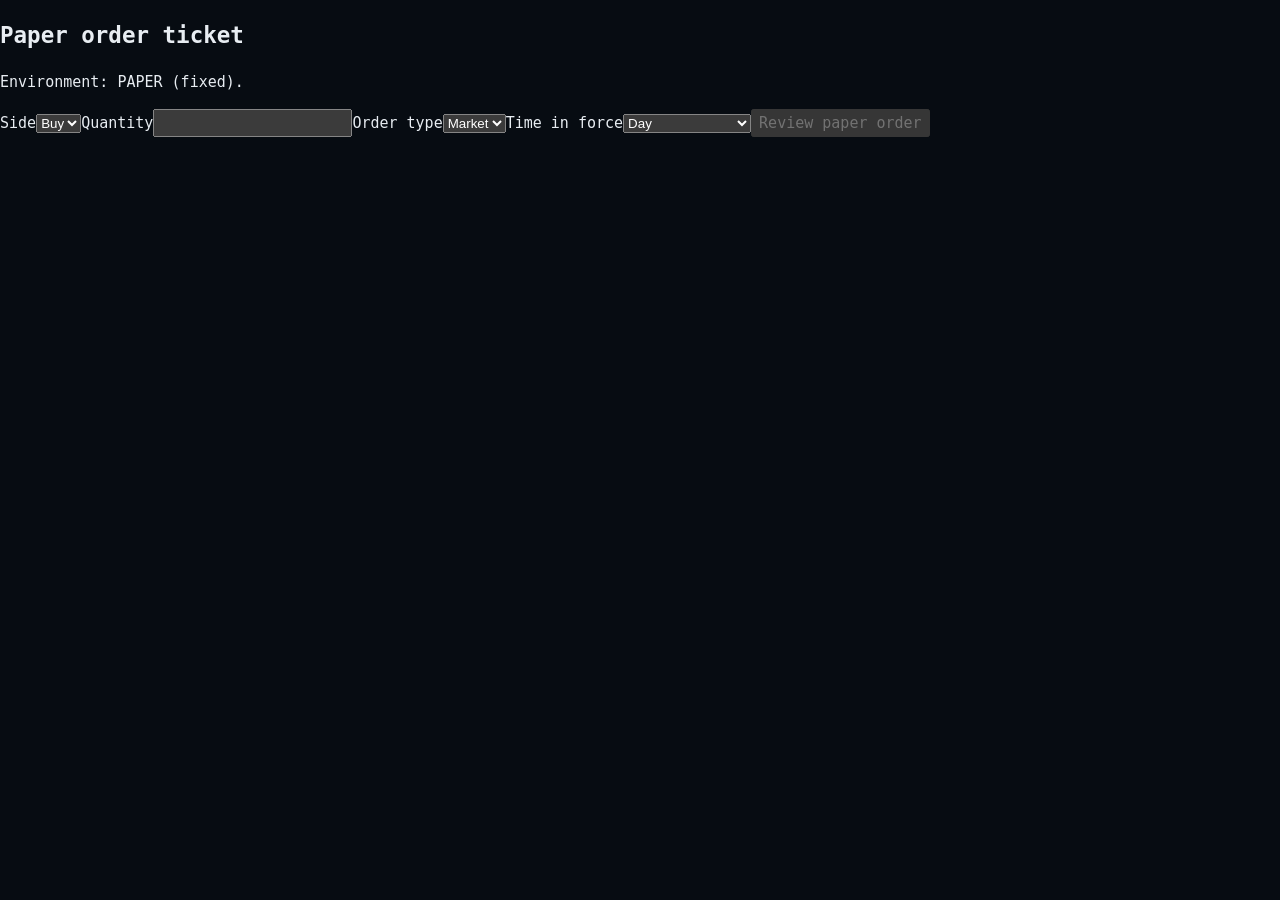
Test: PaperOrderTicketView › retries a definite evidence refusal against the same created draft after fresh review
Type "1" into the field labelled "Quantity" at (253, 123), box x1=153 y1=109 x2=352 y2=137
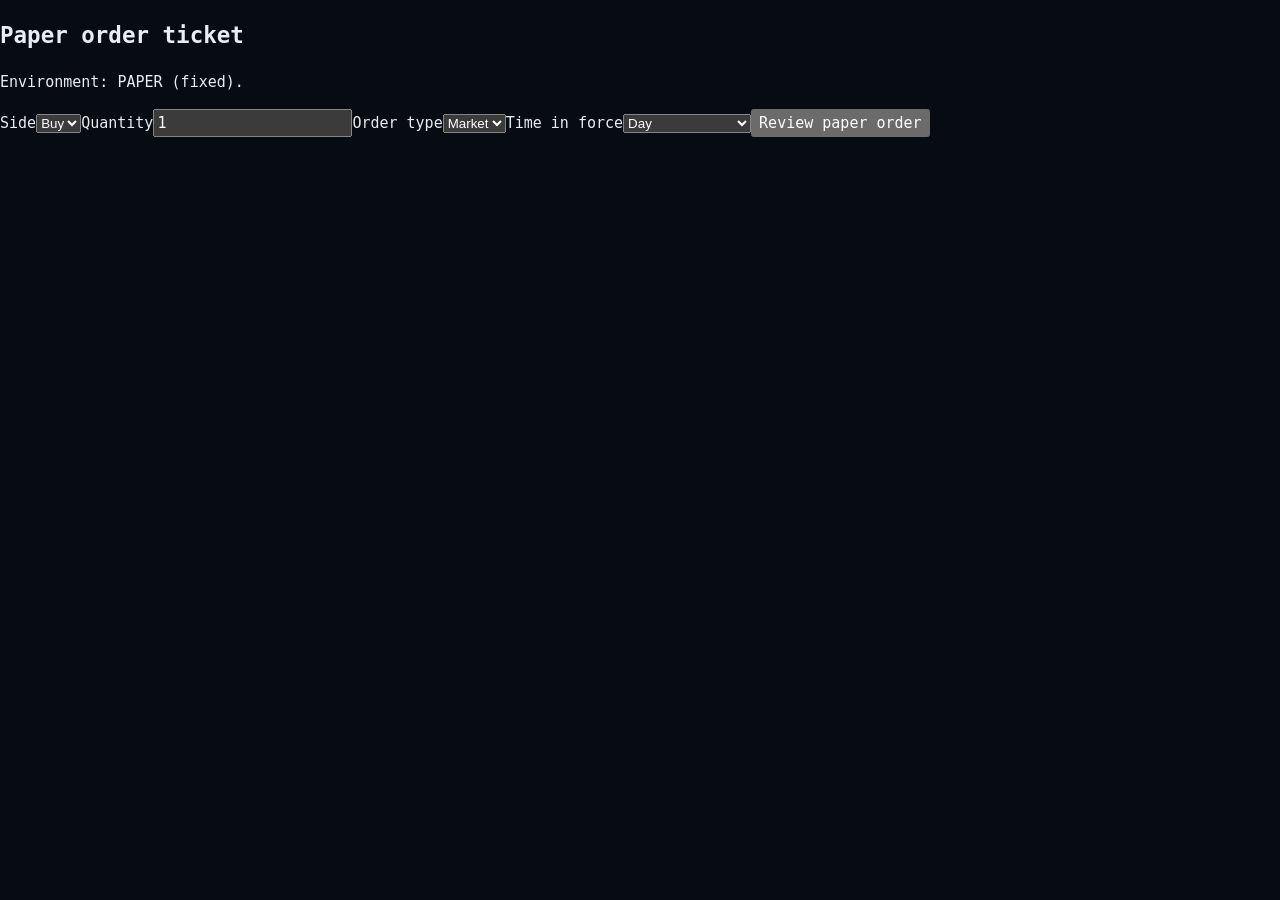
Click the button "Review paper order" at (840, 123), box x1=751 y1=109 x2=930 y2=137
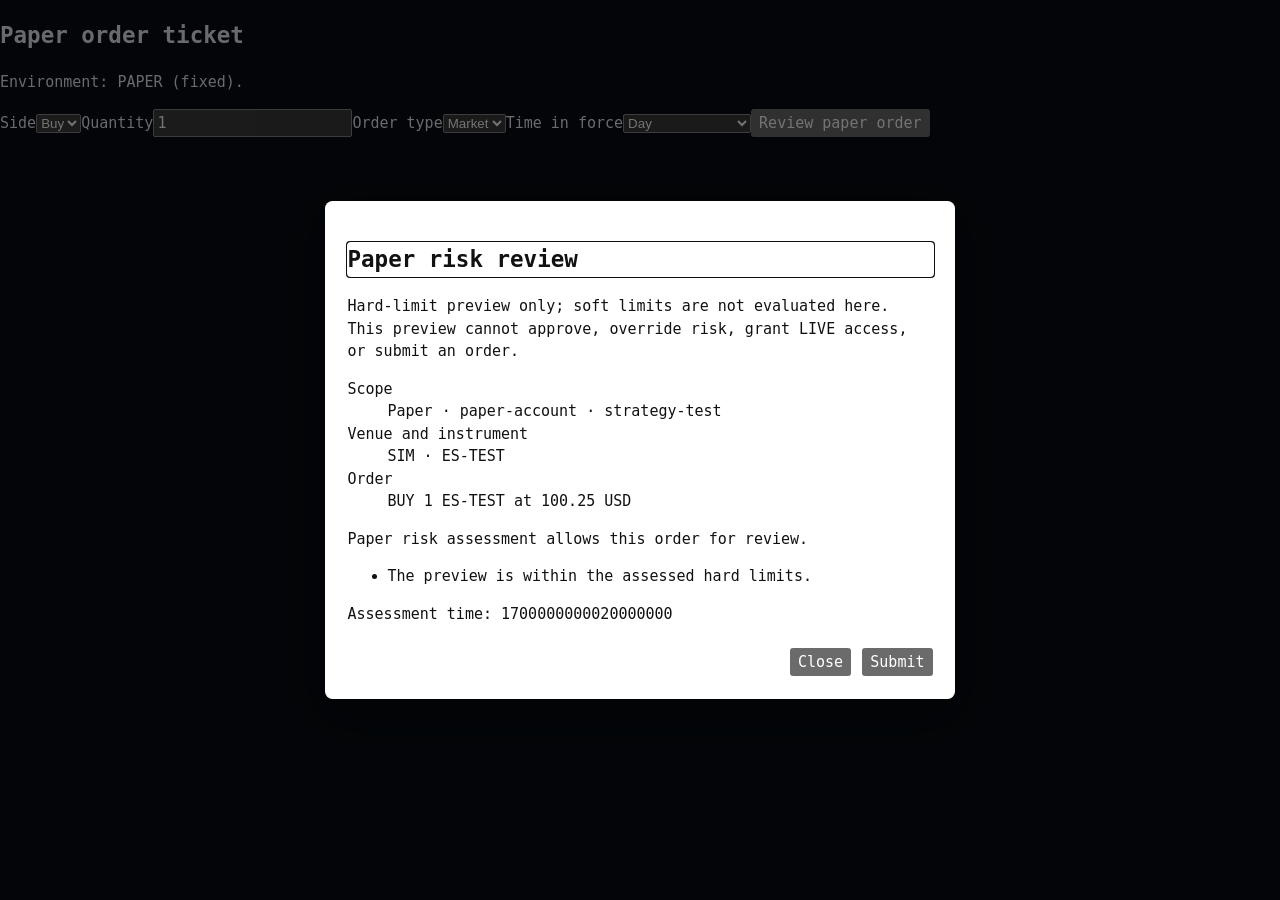
Check: the dialog "Paper risk review" is shown, box x1=325 y1=202 x2=955 y2=699
Check: the button "Submit" is enabled
Click the button "Submit" at (897, 662), box x1=862 y1=648 x2=932 y2=676
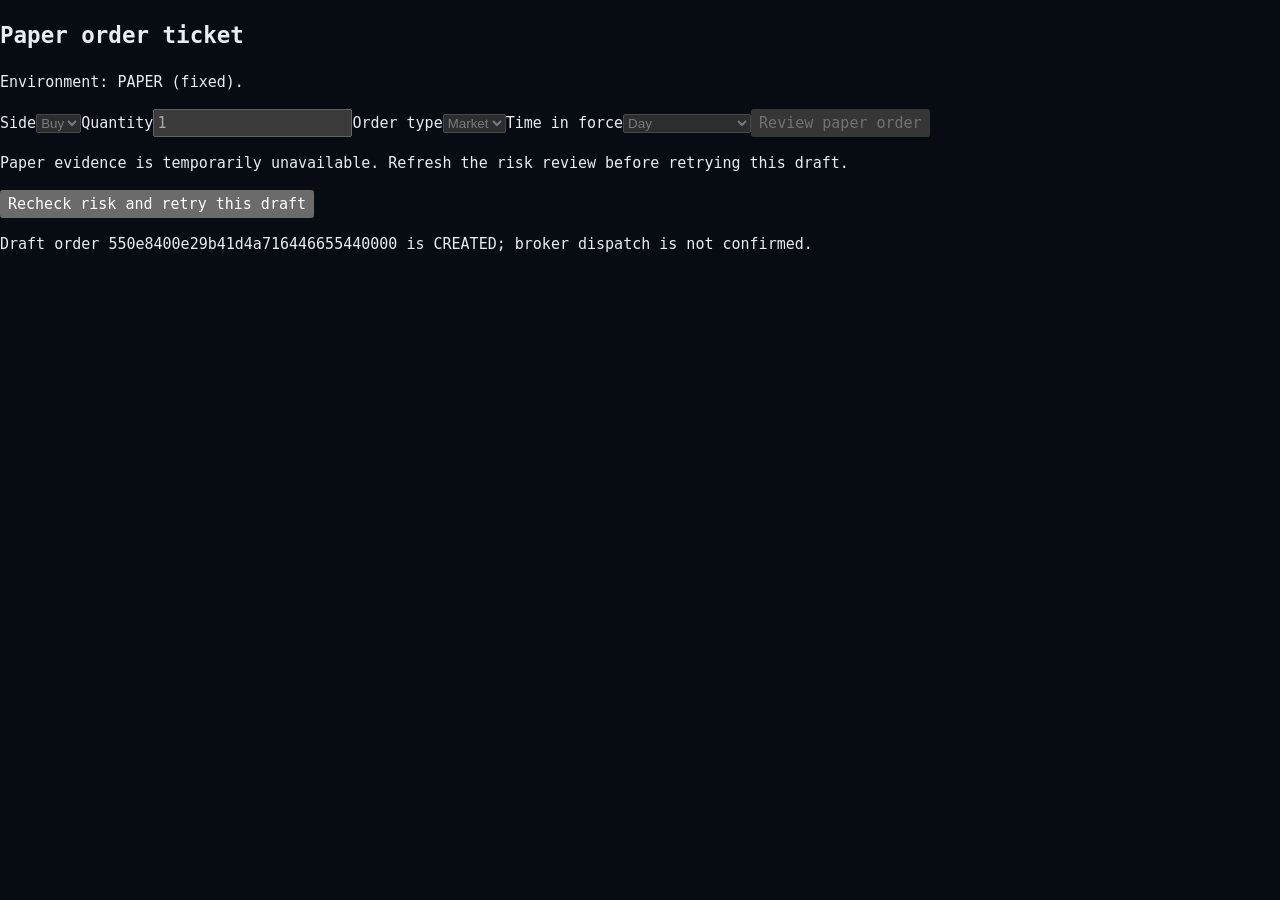
Check: the 1st message shows "evidence is temporarily unavailable", box x1=0 y1=154 x2=849 y2=172
Click the button "Recheck risk and retry this draft" at (157, 204), box x1=0 y1=190 x2=314 y2=218
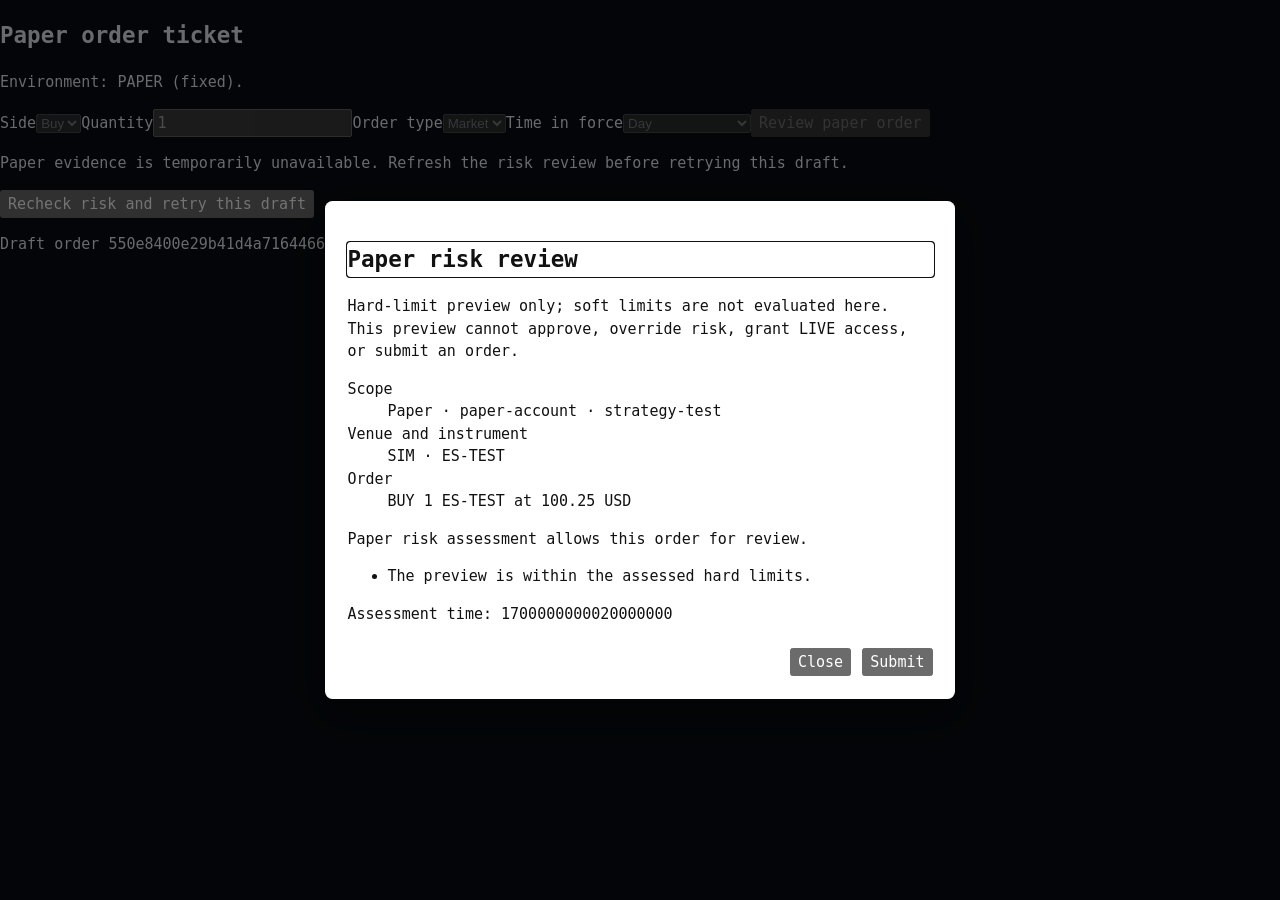
Check: the dialog "Paper risk review" is shown, box x1=325 y1=202 x2=955 y2=699
Check: the button "Submit" is enabled
Click the button "Submit" at (897, 662), box x1=862 y1=648 x2=932 y2=676
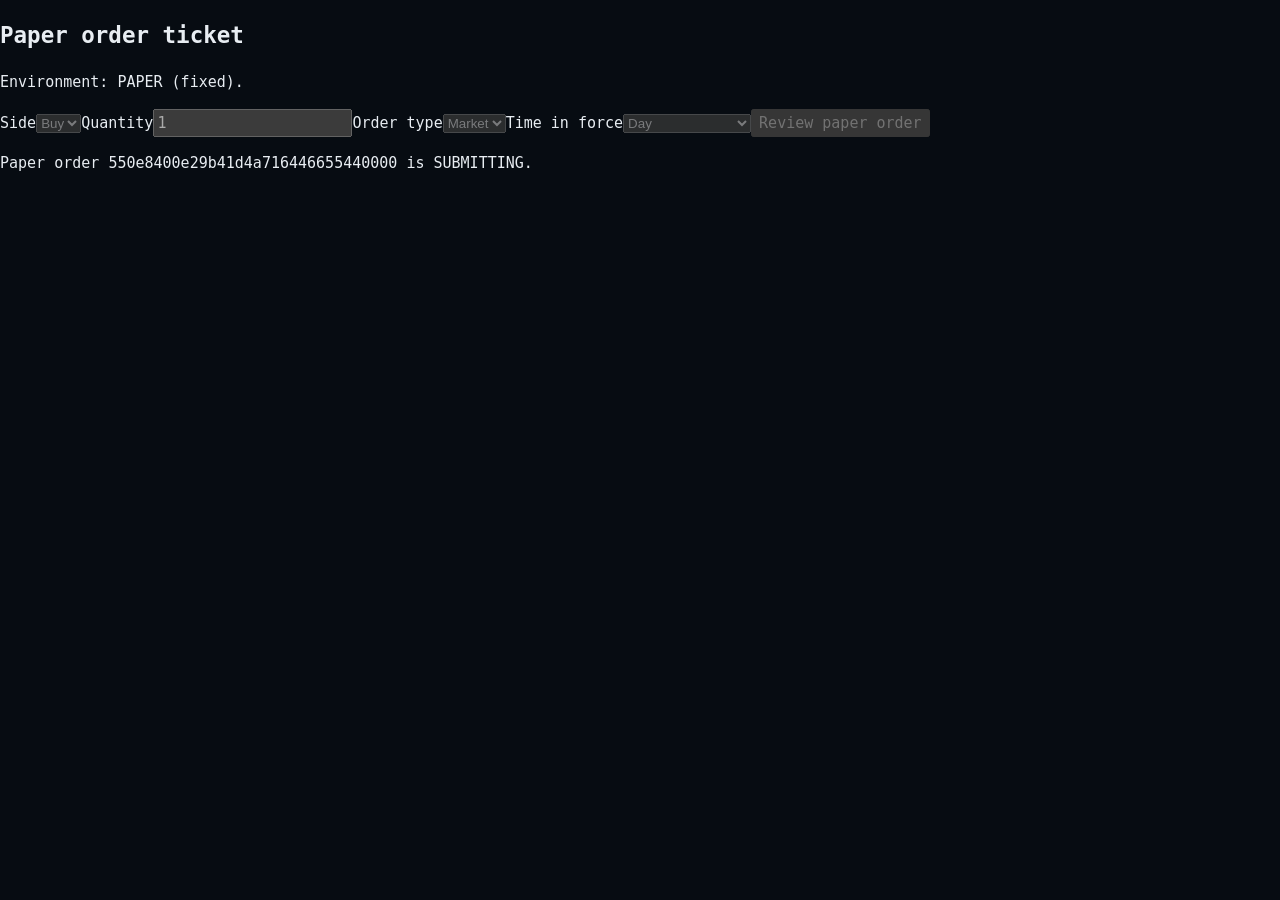
Check: the text "Paper order 550e8400e29b41d4a716446655440000 is SUBMITTING." is shown, box x1=0 y1=154 x2=533 y2=172
